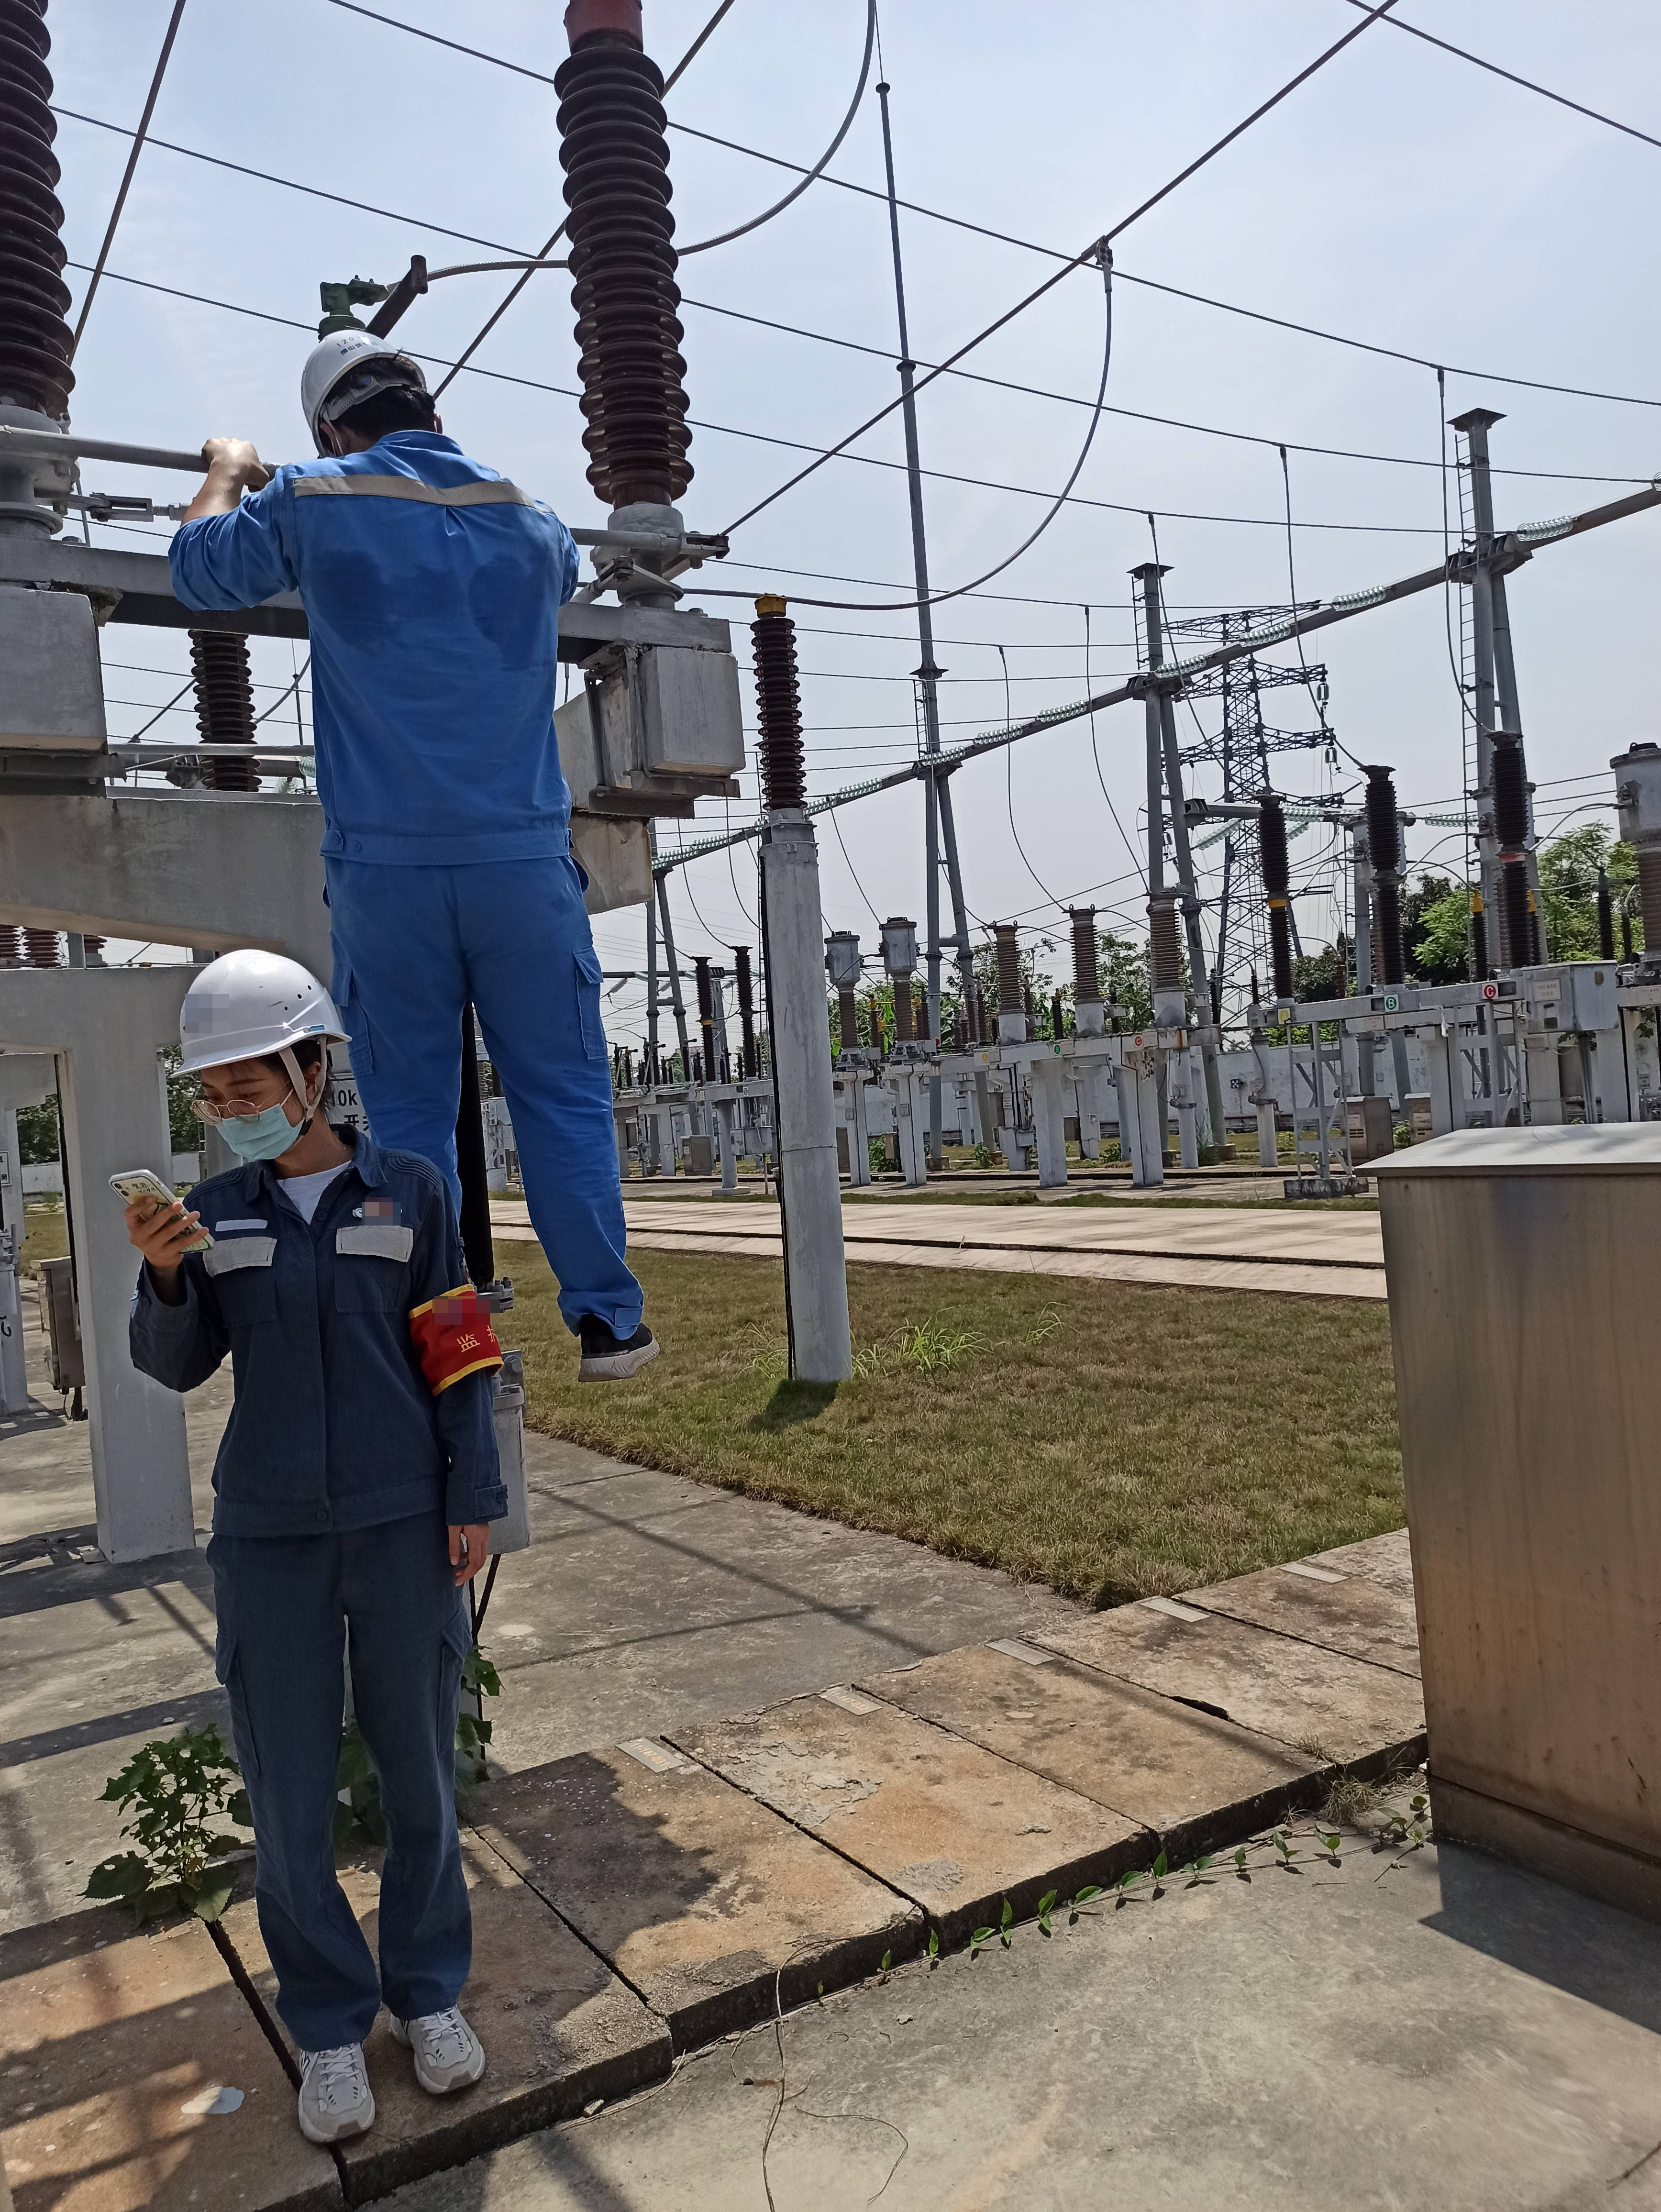downsuit: (201, 1561, 489, 2034), (475, 872, 642, 1322)
upsuit: (166, 447, 604, 867), (112, 1155, 509, 1512)
wrongtop: (180, 440, 253, 534)
